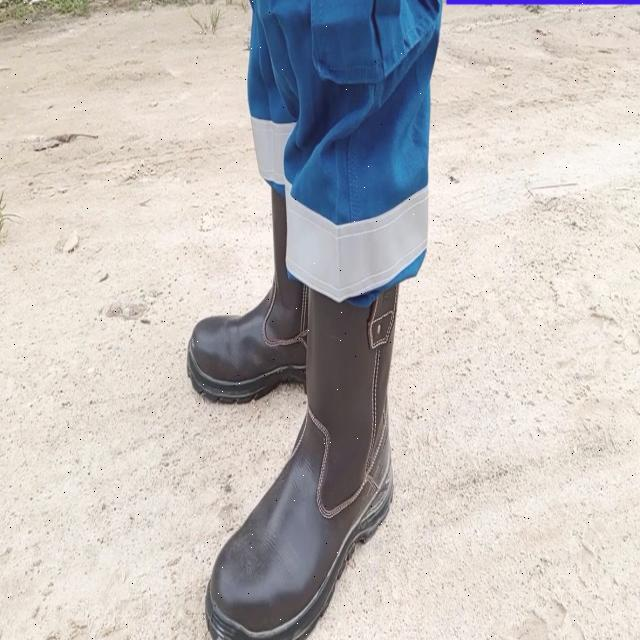Overall Suit: (248, 0, 441, 291)
Safety Boots: (208, 283, 394, 640), (191, 285, 304, 406)
